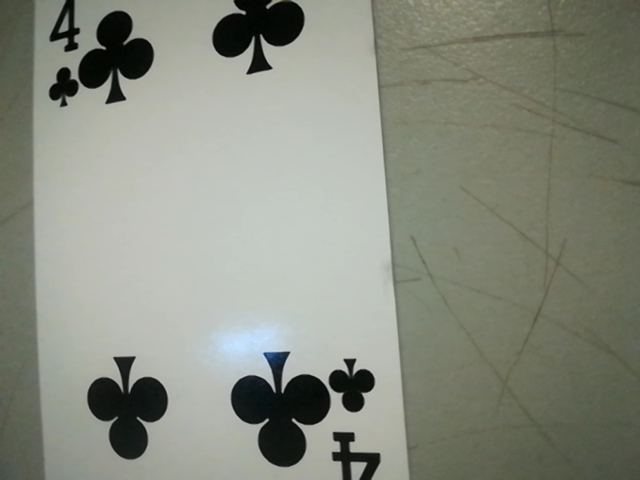mh 4: (315, 349, 400, 480), (35, 0, 92, 114)
